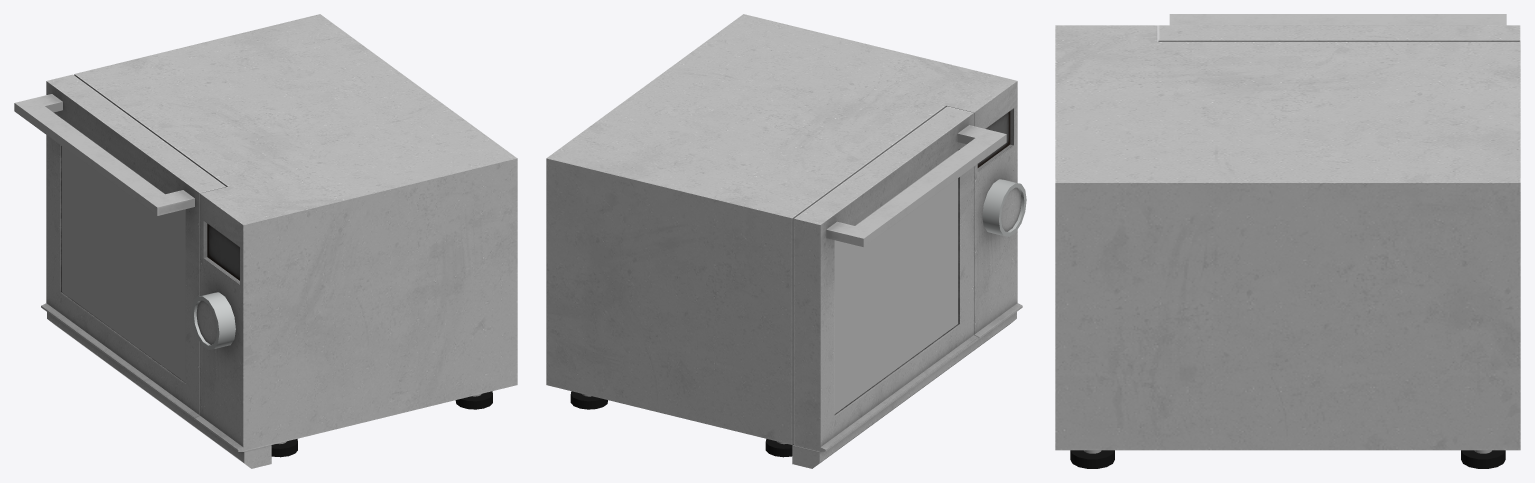
Rendered from SM_Microwave_01.fbx.
The picture shows the model from 3 angles, left to right: view 1: azimuth 30°, elevation 25°; view 2: azimuth 150°, elevation 25°; view 3: azimuth 270°, elevation 25°; orthographic projection. The views are drawn at different scales.
Parts seen in each view (by area): view 1: SM_Microwave_01_LOD0; view 2: SM_Microwave_01_LOD0; view 3: SM_Microwave_01_LOD0.
Part boxes in pixels (x1,y1,x2,y2): SM_Microwave_01_LOD0: (14,14,517,468); SM_Microwave_01_LOD0: (546,14,1026,468); SM_Microwave_01_LOD0: (1055,14,1520,468).
Size of the model in its own units: 45.6 by 50 by 34.7.
2 materials, 1 textured.
